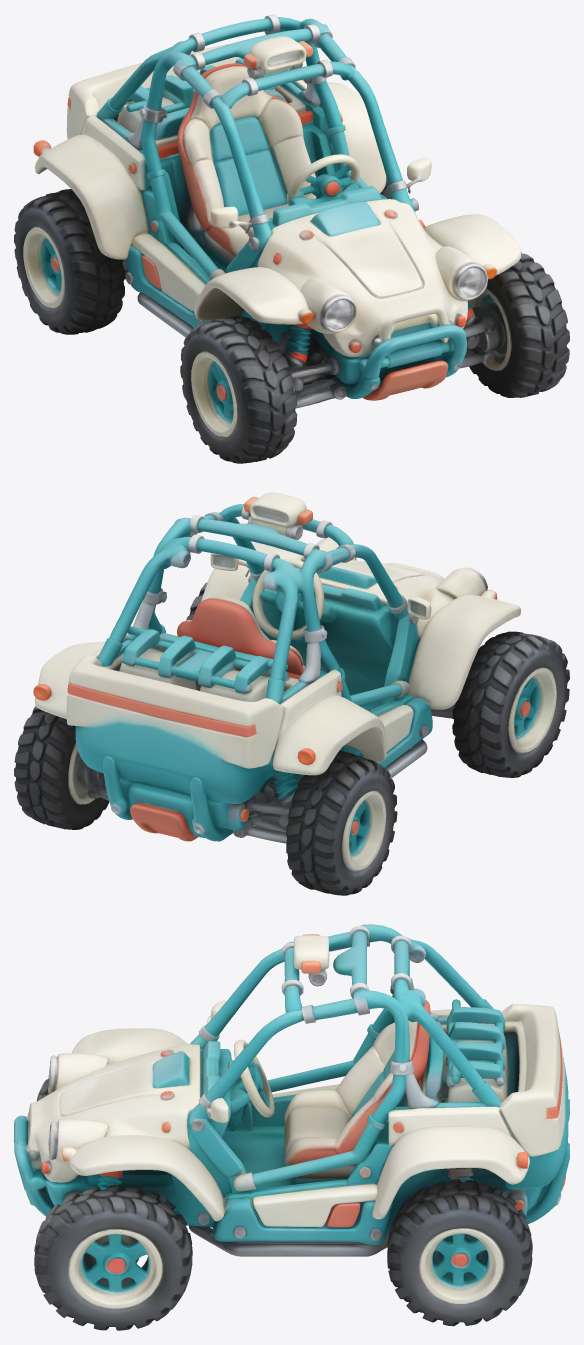
File: reef-original.glb
3 views of the same model, one above another, from view 1: azimuth 30°, elevation 25°; view 2: azimuth 150°, elevation 25°; view 3: azimuth 270°, elevation 25° (orthographic). The views are drawn at different scales.
Parts seen in each view (by area): view 1: model; view 2: model; view 3: model.
Part boxes in pixels (x1=…): model: x1=14, y1=14, x2=569, y2=463; model: x1=14, y1=492, x2=569, y2=895; model: x1=14, y1=924, x2=569, y2=1330.
Bounding box in the file's own units: 1.31 × 1.19 × 1.9.
Materials: 1 (1 with a texture image).
